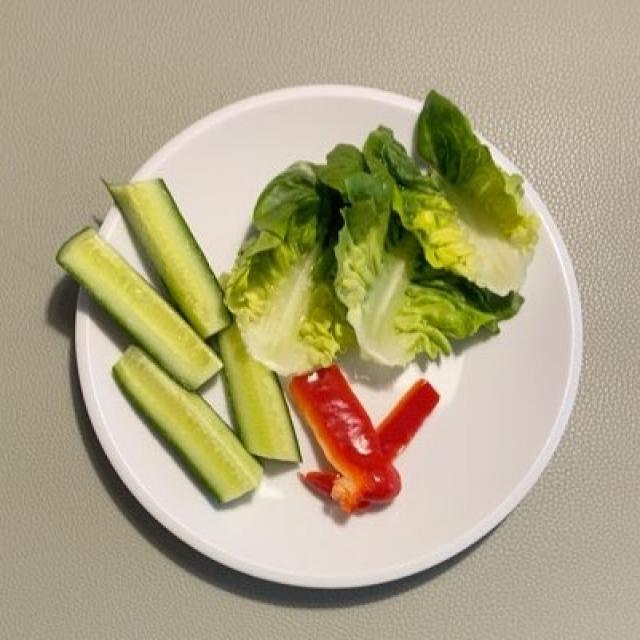bell-pepper: (289, 368, 444, 506)
cucumber: (49, 171, 306, 506)
salad: (234, 95, 532, 367)
